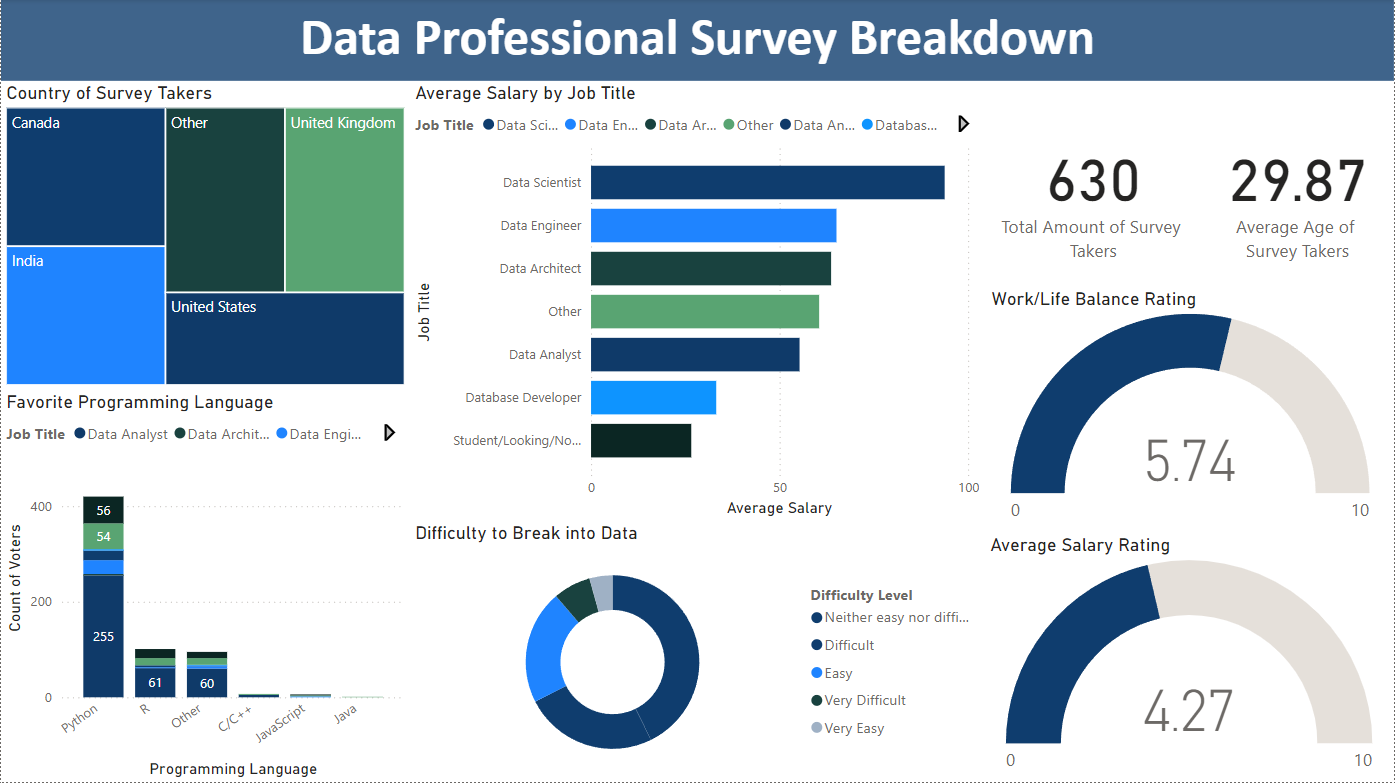

What the dashboard file says about the page in this screenshot:
{"tool":"powerbi","page":{"name":"Page 1","canvas":[1280,720],"ordinal":0},"visuals":[{"type":"textbox","box":[0,0,1280.3,75.5],"z":0},{"type":"card","fields":{"Values":["CountNonNull(Data Professional Survey.Unique ID)"]},"box":[904.7,75.6,197.7,189.5],"z":1000},{"type":"card","fields":{"Values":["Avg(Data Professional Survey.Q10 - Current Age)"]},"box":[1102.3,75.6,177.9,189.5],"z":2000},{"type":"barChart","title":"Average Salary by Job Title","fields":{"Category":["Data Professional Survey.Q1 - Which Title Best Fits your Current Role?.1"],"Y":["Avg(Data Professional Survey.Average Salary)"],"Series":["Data Professional Survey.Q1 - Which Title Best Fits your Current Role?.1"]},"box":[376,75.5,528.3,404.8],"z":3000},{"type":"columnChart","title":"Favorite Programming Language","fields":{"Category":["Data Professional Survey.Q5 - Favorite Programming Language.1"],"Y":["CountNonNull(Data Professional Survey.Unique ID)"],"Series":["Data Professional Survey.Q1 - Which Title Best Fits your Current Role?.1"]},"box":[0,359.5,376,360.9],"z":4000},{"type":"treemap","title":"Country of Survey Takers","fields":{"Group":["Data Professional Survey.Q11 - Which Country do you live in?.1"],"Values":["Count(Data Professional Survey.Q11 - Which Country do you live in?.1)"]},"box":[0,75.5,376,284],"z":5000},{"type":"gauge","title":"Average Salary Rating","fields":{"Y":["Avg(Data Professional Survey.Q6 - How Happy are you in your Current Position with the following? (Salary))"],"MinValue":["Min(Data Professional Survey.Q6 - How Happy are you in your Current Position with the following? (Salary))1"],"MaxValue":["Max(Data Professional Survey.Q6 - How Happy are you in your Current Position with the following? (Salary))2"]},"box":[904.3,491.3,376,229.2],"z":6000},{"type":"gauge","title":"Work/Life Balance Rating","fields":{"Y":["Avg(Data Professional Survey.Q6 - How Happy are you in your Current Position with the following? (Work/Life Balance))"],"MinValue":["Min(Data Professional Survey.Q6 - How Happy are you in your Current Position with the following? (Work/Life Balance))1"],"MaxValue":["Max(Data Professional Survey.Q6 - How Happy are you in your Current Position with the following? (Work/Life Balance))2"]},"box":[904.7,265.1,375.6,225.6],"z":7000},{"type":"donutChart","title":"Difficulty to Break into Data","fields":{"Category":["Data Professional Survey.Q7 - How difficult was it for you to break into Data?"],"Y":["CountNonNull(Data Professional Survey.Q7 - How difficult was it for you to break into Data?)"]},"box":[375.6,480.2,529.1,239.5],"z":8000}]}

Visuals, with their boxes in screenshot pixels (x1, y1, x2, y2), scaled from the page's 1280x720 canvas onto the 1395x783 screenshot:
textbox: (0,0,1394,82)
card - CountNonNull(Data Professional Survey.Unique ID): (986,82,1201,288)
card - Avg(Data Professional Survey.Q10 - Current Age): (1201,82,1394,288)
"Average Salary by Job Title" barChart: (410,82,986,522)
"Favorite Programming Language" columnChart: (0,391,410,782)
"Country of Survey Takers" treemap: (0,82,410,391)
"Average Salary Rating" gauge: (986,534,1394,782)
"Work/Life Balance Rating" gauge: (986,288,1394,534)
"Difficulty to Break into Data" donutChart: (409,522,986,782)
